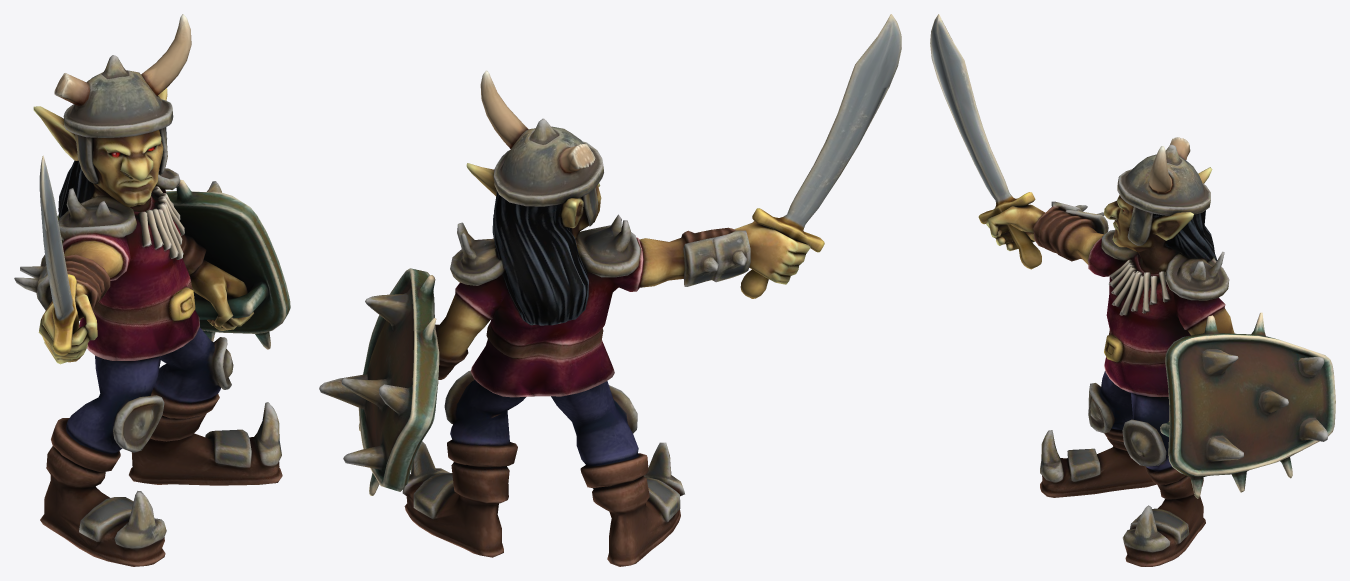
Rendered from Goblin Chief.glb.
The picture shows the model from 3 angles, left to right: view 1: azimuth 30°, elevation 25°; view 2: azimuth 150°, elevation 25°; view 3: azimuth 270°, elevation 25°; orthographic projection. The views are drawn at different scales.
Visible parts, largest first — view 1: body_low.001, shield_low.001, helm_low.001, scimitar_low.001, neck_low.001; view 2: body_low.001, shield_low.001, helm_low.001, scimitar_low.001; view 3: body_low.001, shield_low.001, scimitar_low.001, helm_low.001, neck_low.001.
Part boxes in pixels (<box>): body_low.001: <box>14,88,282,566</box>; shield_low.001: <box>57,179,290,349</box>; helm_low.001: <box>54,14,191,184</box>; scimitar_low.001: <box>39,155,83,362</box>; neck_low.001: <box>138,186,184,259</box>; body_low.001: <box>402,163,810,566</box>; shield_low.001: <box>319,268,439,495</box>; helm_low.001: <box>480,70,603,226</box>; scimitar_low.001: <box>740,14,901,298</box>; body_low.001: <box>986,167,1234,566</box>; shield_low.001: <box>1160,312,1335,498</box>; scimitar_low.001: <box>930,14,1041,269</box>; helm_low.001: <box>1117,137,1210,245</box>; neck_low.001: <box>1108,259,1170,315</box>.
Bounding box in the file's own units: 5.23 × 6.16 × 5.53.
Materials: 1 (1 with a texture image).
